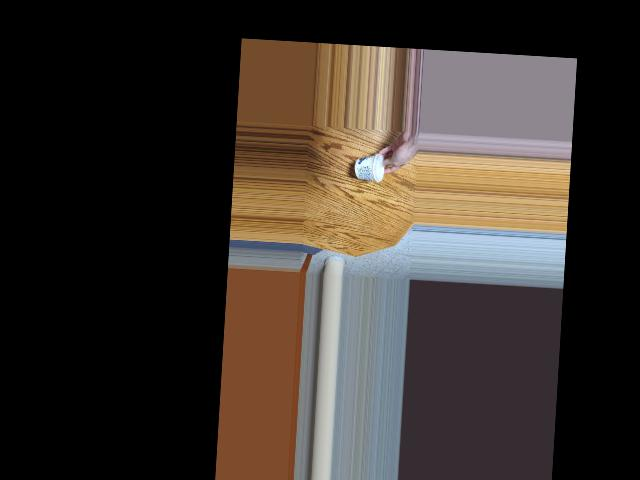cotage: (357, 153, 388, 177)
